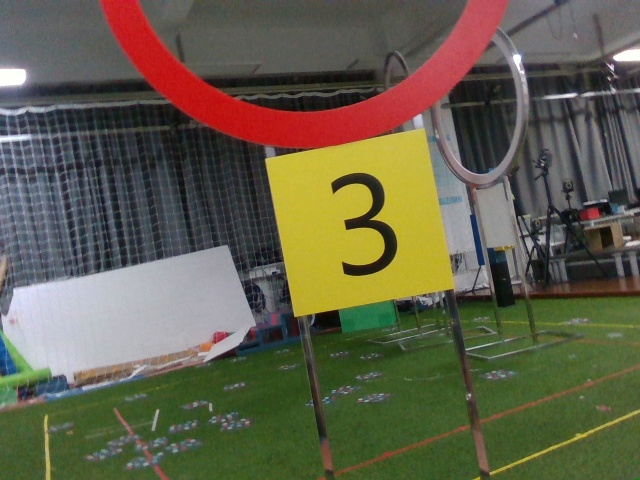target: (279, 157, 446, 295)
